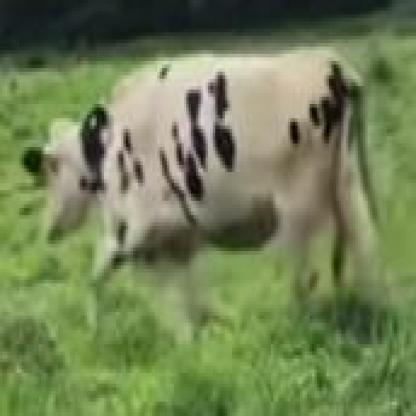cow: (20, 46, 381, 348)
